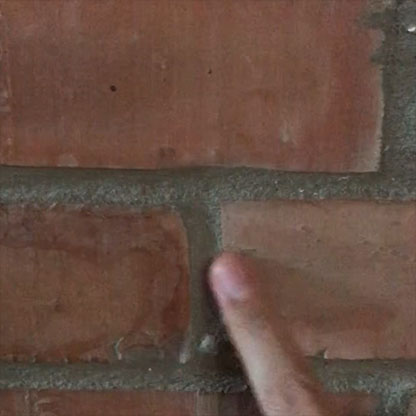fingertip: (194, 247, 272, 314)
